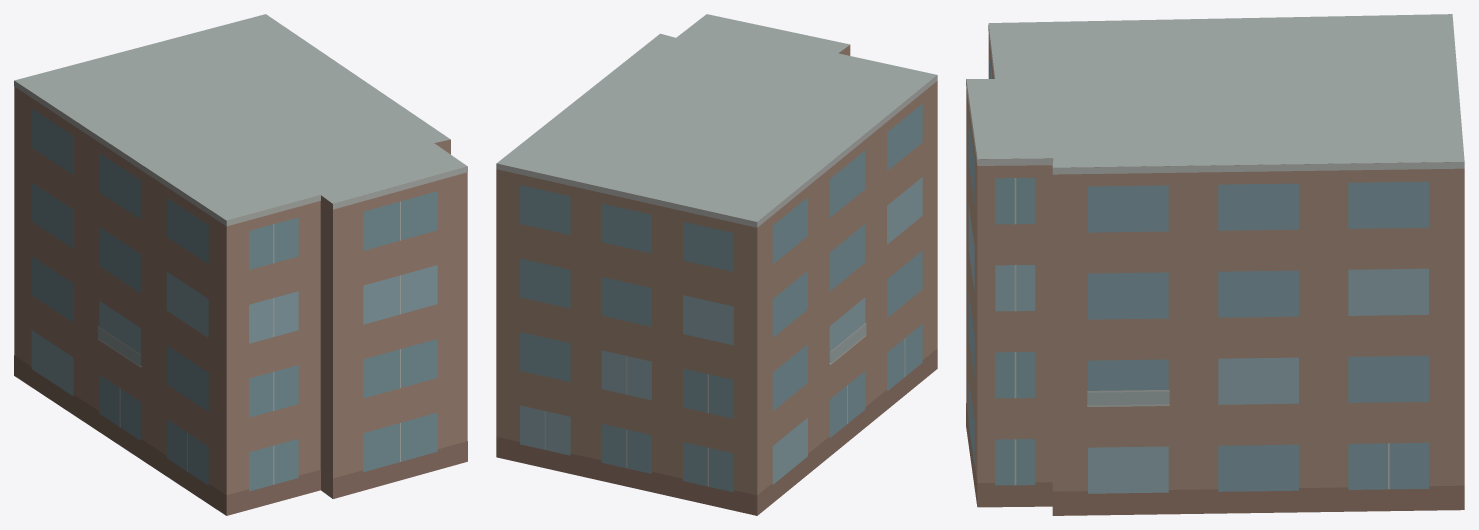
The model's file is survey-upis-32800706.glb.
3 views of the same model, side by side, from view 1: azimuth 30°, elevation 25°; view 2: azimuth 150°, elevation 25°; view 3: azimuth 270°, elevation 25° (orthographic). The views are drawn at different scales.
Parts seen in each view (by area): view 1: survey-upis-32800706.tmp; view 2: survey-upis-32800706.tmp; view 3: survey-upis-32800706.tmp.
Part boxes in pixels (bbox=[...]): survey-upis-32800706.tmp: bbox=[14, 14, 467, 515]; survey-upis-32800706.tmp: bbox=[496, 14, 937, 515]; survey-upis-32800706.tmp: bbox=[966, 14, 1464, 515].
Size of the model in its own units: 11.75 by 12.4 by 16.1.
